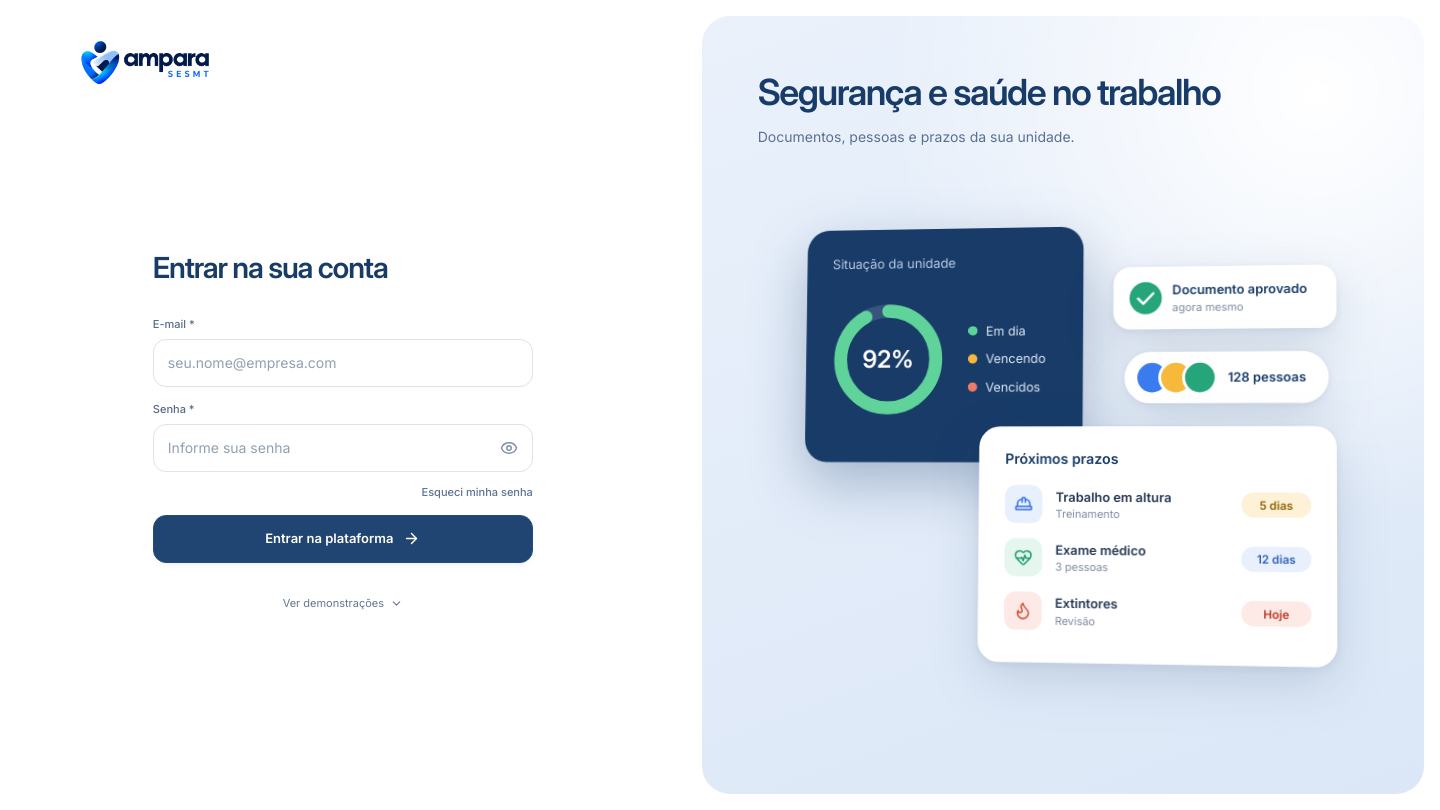
Test: continuidade do acesso › prioriza credenciais e texto breve, com uma única marca e demonstrações recolhidas
This screenshot has width=1440, height=810.
Expected: the number of pictures named "Ampara SESMT" is 1, [76, 34, 214, 90]
Expected: the heading "Segurança e saúde no trabalho" is shown, [758, 70, 1220, 114]
Click the button "Ver demonstrações". click: (343, 604)
box: [271, 582, 415, 626]
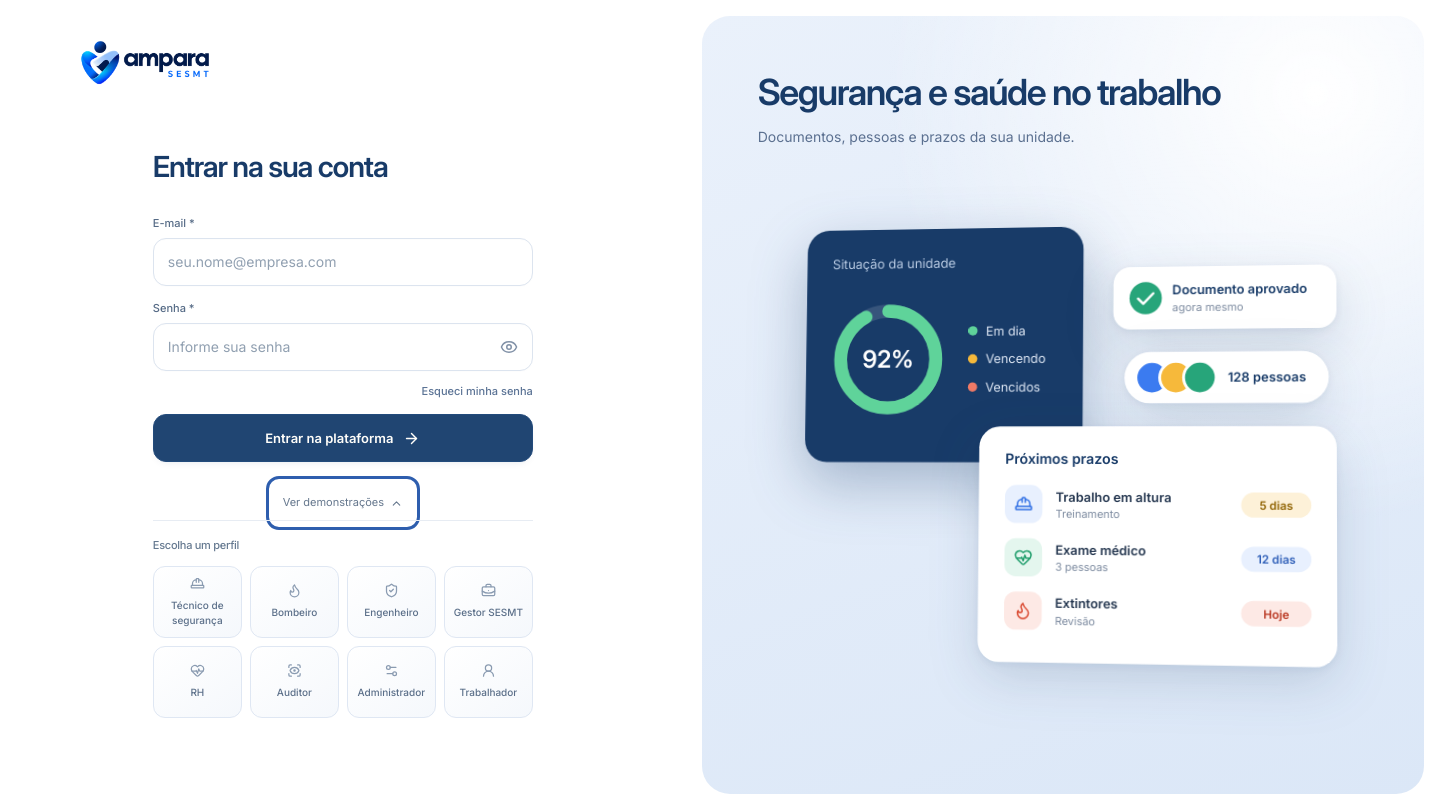
Result: the button "Ver demonstrações" is expanded at [271, 481, 415, 525]
Result: the heading "Escolha um perfil" is shown at [153, 538, 239, 552]
Result: the button "Técnico de segurança" is enabled at [153, 566, 242, 638]
